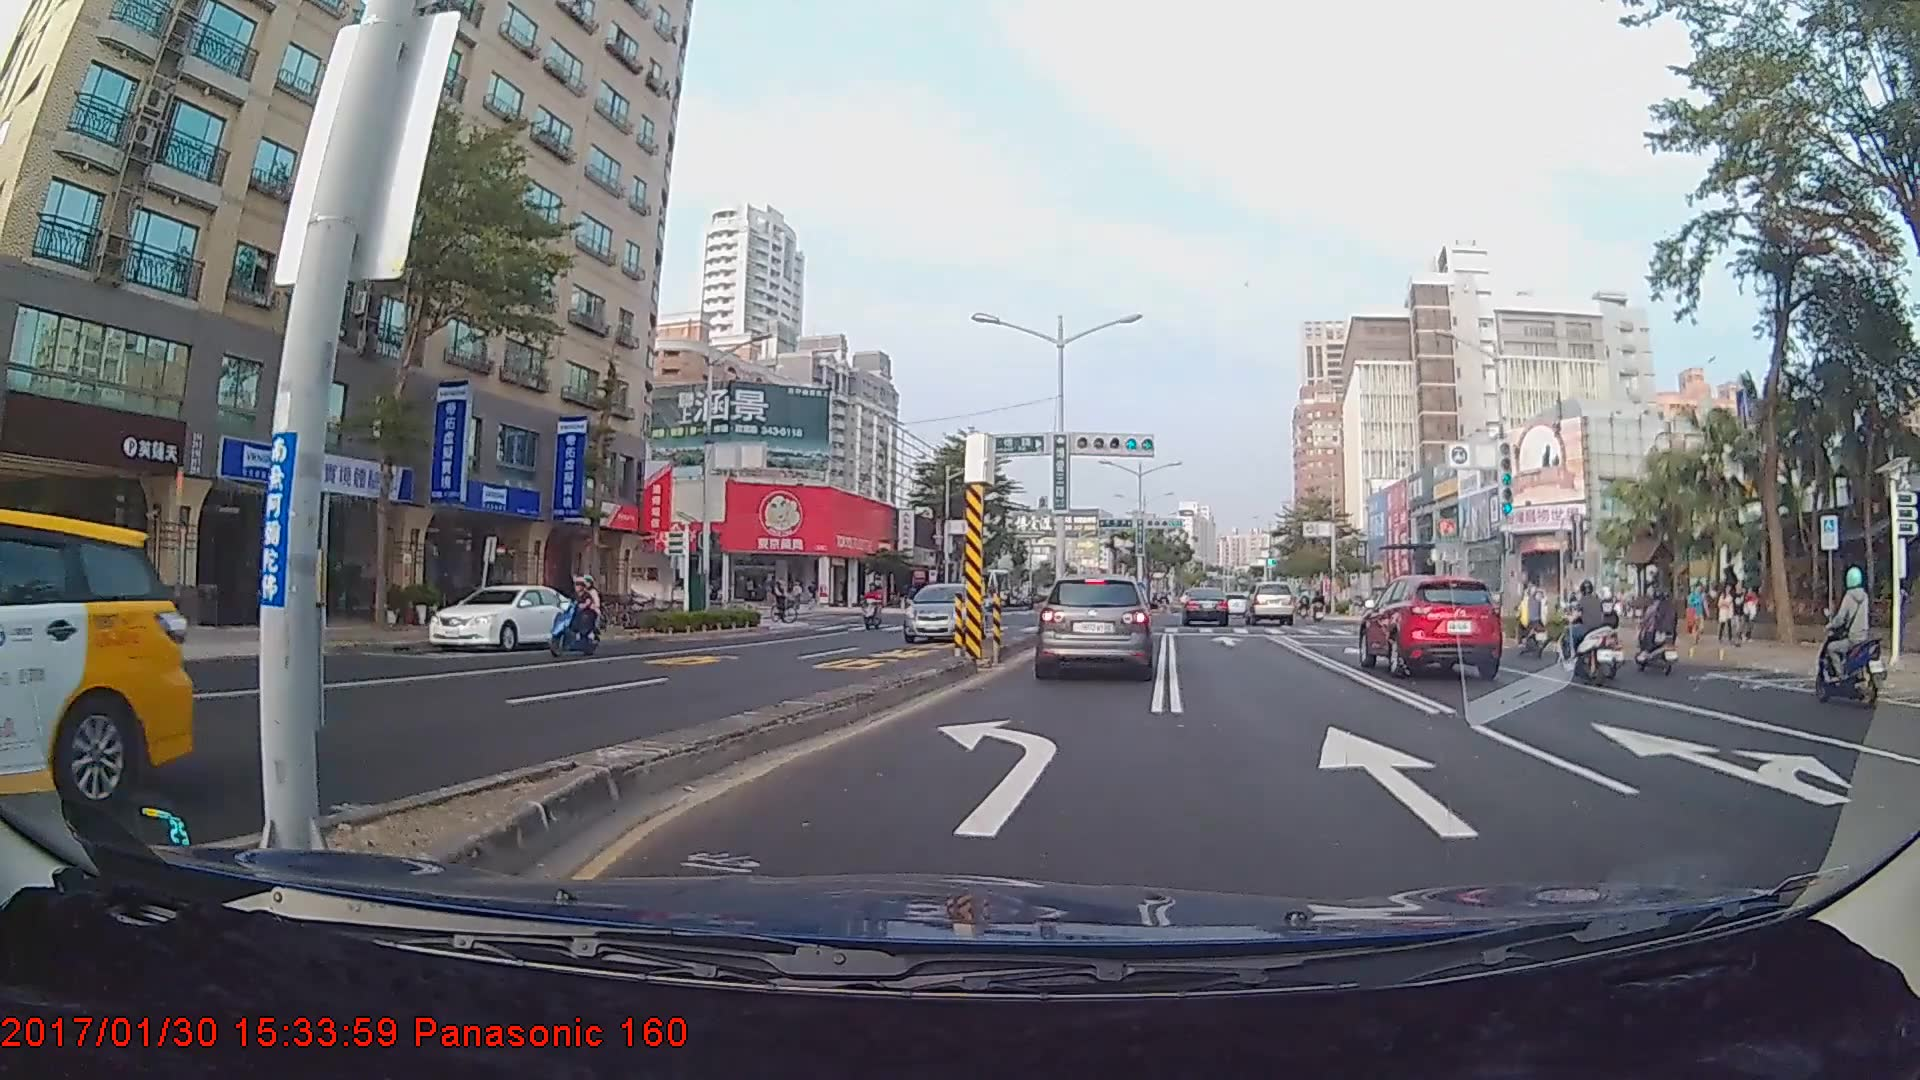pedestrian: (1687, 580, 1710, 648), (1731, 581, 1751, 645), (1717, 581, 1737, 642)
rider: (1806, 566, 1887, 711), (1552, 573, 1622, 681), (539, 573, 605, 662), (1628, 581, 1679, 674), (857, 577, 886, 634), (766, 576, 796, 628)
vehicle: (0, 504, 195, 821), (1359, 570, 1505, 678), (1033, 572, 1155, 679), (425, 582, 585, 651), (900, 581, 984, 641), (1245, 581, 1295, 626), (1180, 585, 1228, 627)
